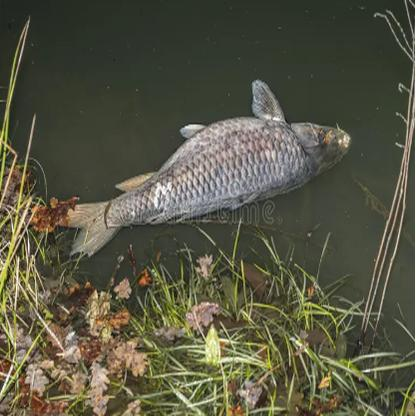deceased fish: (43, 77, 355, 260)
